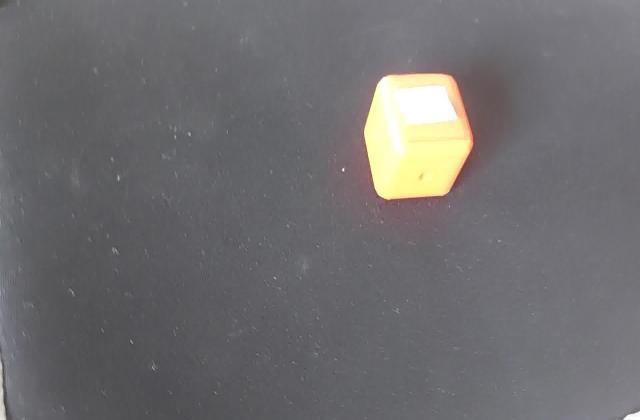cube: (358, 66, 479, 206)
white: (391, 80, 456, 134)
